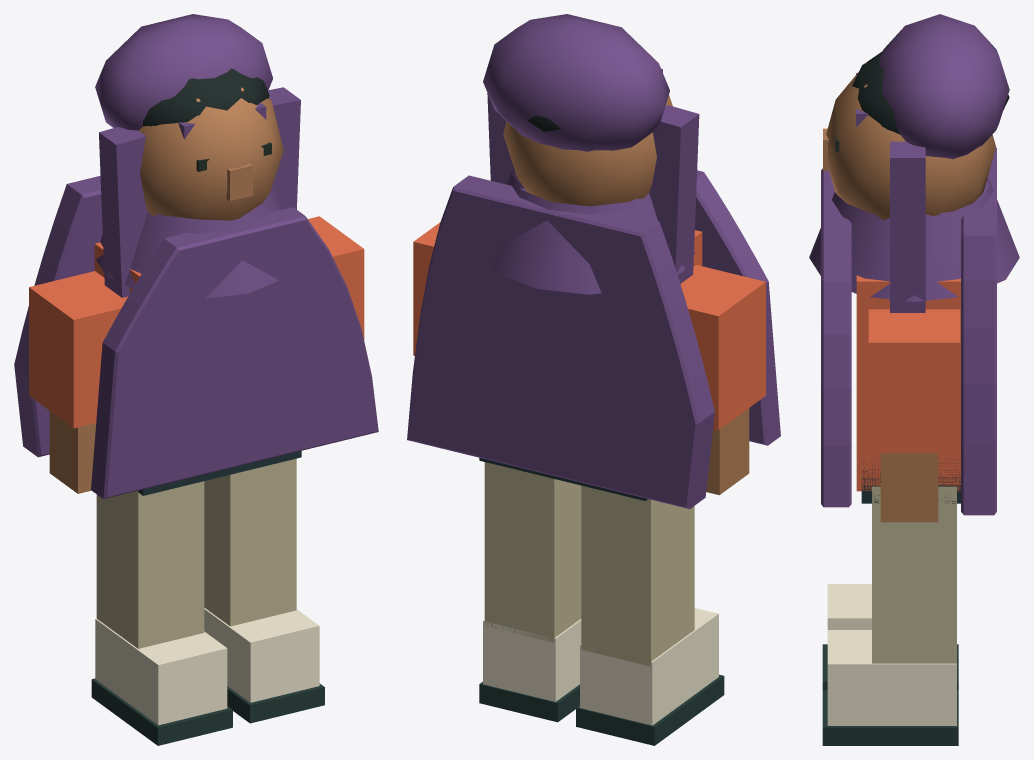
The model's file is female-tudung-long.glb.
3 views of the same model, side by side, from view 1: azimuth 30°, elevation 25°; view 2: azimuth 150°, elevation 25°; view 3: azimuth 270°, elevation 25° (orthographic). The views are drawn at different scales.
Visible parts, largest first — view 1: female-tudung-long, tudung-long-front, avatar-tudung, tudung-long-back, tudung-neck-wrap; view 2: female-tudung-long, tudung-long-back, avatar-tudung, tudung-neck-wrap, tudung-long-front; view 3: female-tudung-long, avatar-tudung, tudung-long-back, tudung-long-front, tudung-neck-wrap.
Part boxes in pixels (<box>): female-tudung-long: <box>29,68,364,745</box>; tudung-long-front: <box>91,207,378,498</box>; avatar-tudung: <box>95,14,300,297</box>; tudung-long-back: <box>14,175,102,457</box>; tudung-neck-wrap: <box>96,186,281,298</box>; female-tudung-long: <box>413,95,765,745</box>; tudung-long-back: <box>407,175,714,508</box>; avatar-tudung: <box>483,14,699,283</box>; tudung-neck-wrap: <box>493,168,695,294</box>; tudung-long-front: <box>695,170,780,445</box>; female-tudung-long: <box>822,50,1009,745</box>; avatar-tudung: <box>856,14,1009,312</box>; tudung-long-back: <box>961,147,996,515</box>; tudung-long-front: <box>821,168,851,507</box>; tudung-neck-wrap: <box>809,178,1019,301</box>.
Size of the model in its own units: 1.01 by 2.2 by 0.62.
